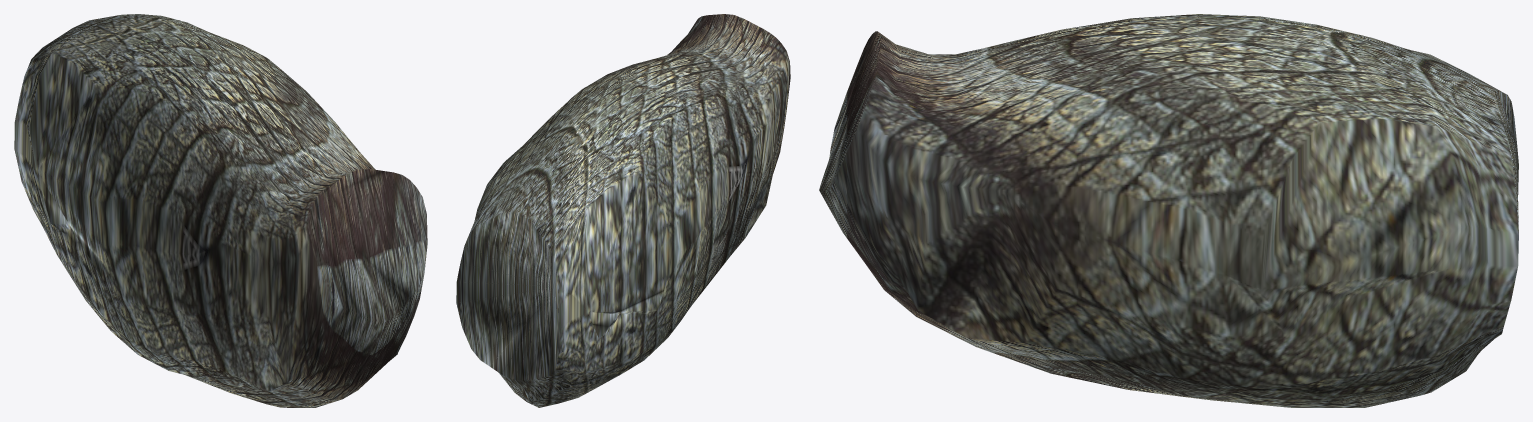
File: torso.obj
3 renders of one model, left to right at view 1: azimuth 30°, elevation 25°; view 2: azimuth 150°, elevation 25°; view 3: azimuth 270°, elevation 25°, orthographic. The views are drawn at different scales.
Visible parts, largest first — view 1: Torso; view 2: Torso; view 3: Torso.
Boxes of the visible parts, <box> form: Torso: <box>14,14,427,407</box>; Torso: <box>456,14,790,407</box>; Torso: <box>819,14,1518,407</box>.
Size of the model in its own units: 1.29 by 2.34 by 3.84.
1 material, 1 textured.
